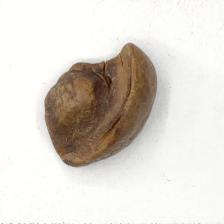NG: (43, 43, 133, 161)
